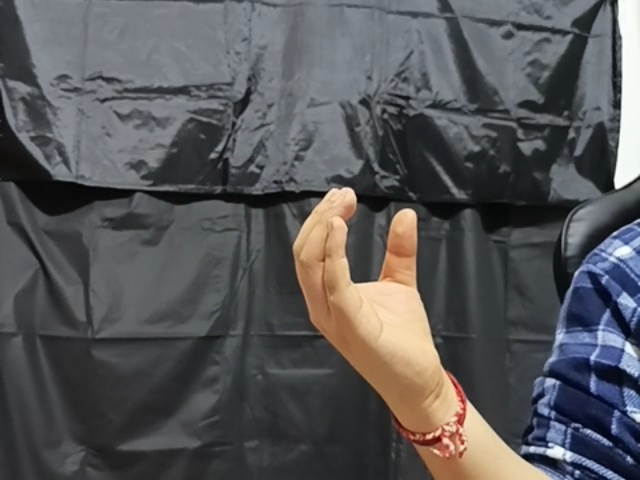C: (289, 184, 462, 390)
